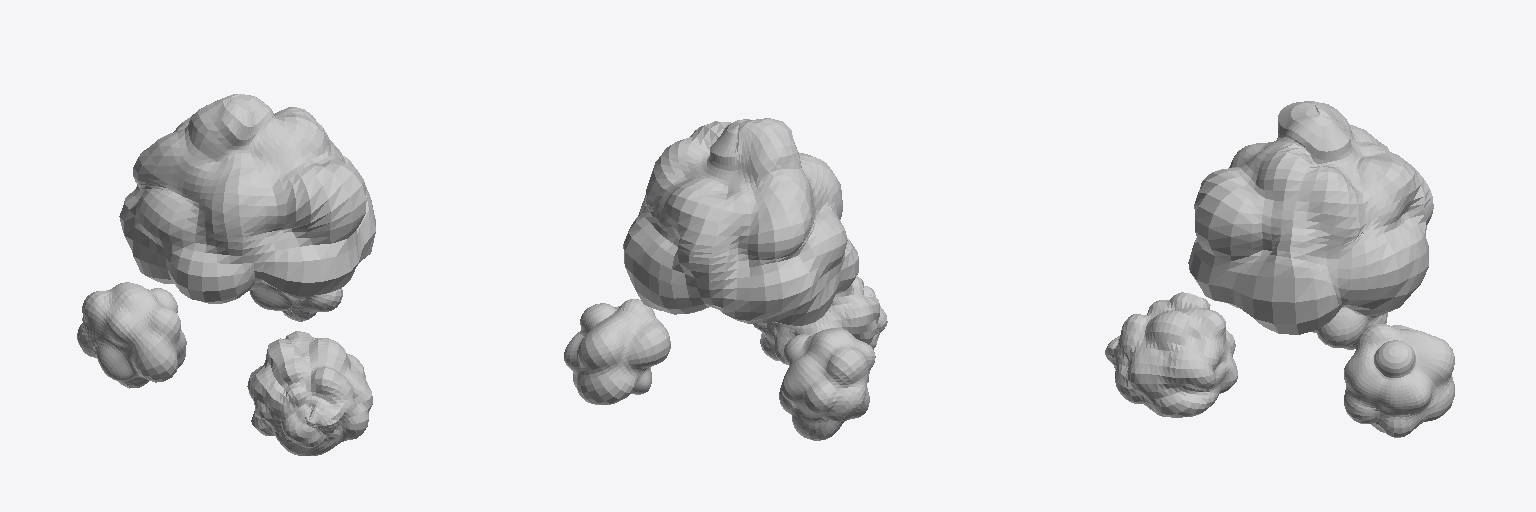
The model's file is TreeCrown.obj.
3 views of the same model, side by side, from view 1: azimuth 30°, elevation 25°; view 2: azimuth 150°, elevation 25°; view 3: azimuth 270°, elevation 25° (orthographic).
Parts seen in each view (by area): view 1: polySurface1; view 2: polySurface1; view 3: polySurface1.
Boxes of the visible parts, x1,y1,x2,y2 form: polySurface1: [77, 94, 375, 455]; polySurface1: [564, 118, 887, 440]; polySurface1: [1105, 101, 1454, 437].
Bounding box in the file's own units: 127 × 132 × 142.